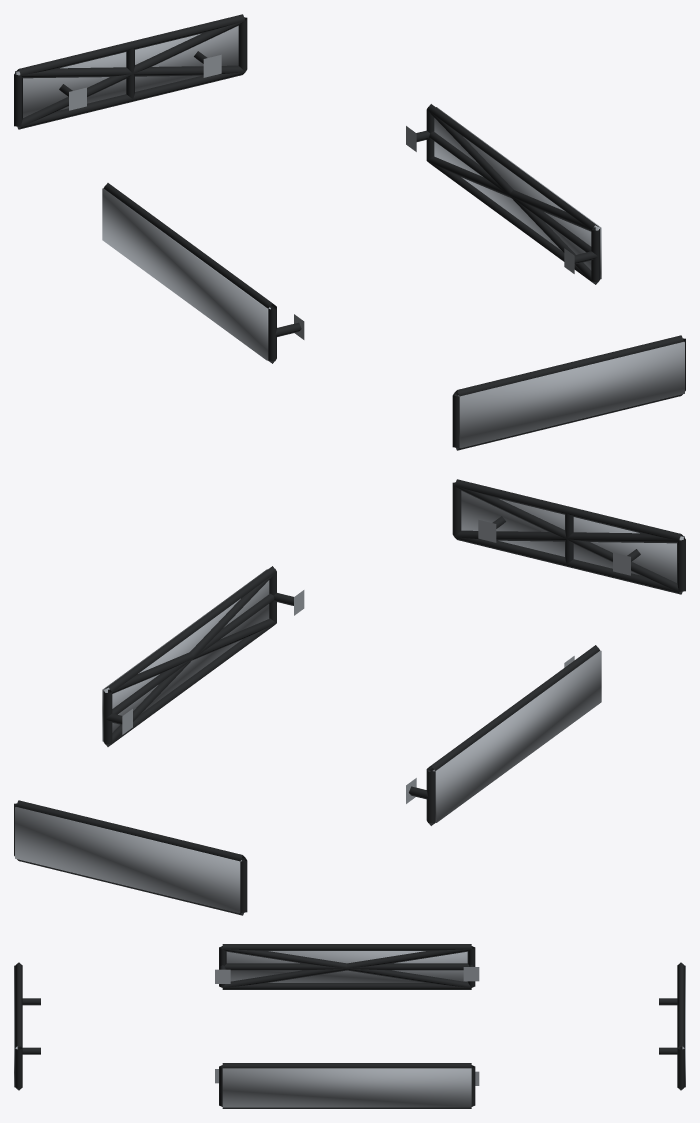
File: bancroft_oficina_protecao.glb
3 views of the same model, one above another, from view 1: azimuth 30°, elevation 25°; view 2: azimuth 150°, elevation 25°; view 3: azimuth 270°, elevation 25° (orthographic). The views are drawn at different scales.
Parts seen in each view (by area): view 1: Protection_front_Level3_Details, Protection_left_Level3_Details, Protection_rear_Level1_Details, Protection_rear_Level3_Details, Protection_right_Level1_Details, Protection_right_Level2_Details, Protection_rear_Level2_Details, Protection_right_Level3_Details, Protection_front_Level1_Details, Protection_left_Level1_Details; view 2: Protection_rear_Level3_Details, Protection_left_Level3_Details, Protection_front_Level1_Details, Protection_front_Level3_Details, Protection_right_Level1_Details, Protection_right_Level2_Details, Protection_front_Level2_Details, Protection_right_Level3_Details, Protection_rear_Level1_Details, Protection_left_Level1_Details; view 3: Protection_right_Level3_Details, Protection_left_Level2_Details, Protection_left_Level1_Details, Protection_left_Level3_Details, Protection_right_Level1_Details, Protection_rear_Level1_Details, Protection_front_Level1_Details.
Part boxes in pixels (x1,y1,x2,y2): Protection_front_Level3_Details: (458, 342, 684, 448); Protection_left_Level3_Details: (102, 188, 270, 360); Protection_rear_Level1_Details: (14, 14, 247, 129); Protection_rear_Level3_Details: (15, 26, 238, 117); Protection_right_Level1_Details: (406, 104, 600, 284); Protection_right_Level2_Details: (427, 110, 599, 284); Protection_rear_Level2_Details: (16, 21, 245, 128); Protection_right_Level3_Details: (434, 107, 601, 279); Protection_front_Level1_Details: (452, 335, 685, 450); Protection_left_Level1_Details: (103, 183, 304, 363); Protection_rear_Level3_Details: (15, 807, 241, 913); Protection_left_Level3_Details: (432, 650, 601, 822); Protection_front_Level1_Details: (452, 479, 685, 594); Protection_front_Level3_Details: (461, 491, 684, 582); Protection_right_Level1_Details: (103, 566, 304, 746); Protection_right_Level2_Details: (104, 572, 276, 746); Protection_front_Level2_Details: (454, 486, 683, 593); Protection_right_Level3_Details: (102, 569, 269, 741); Protection_rear_Level1_Details: (14, 800, 247, 915); Protection_left_Level1_Details: (406, 645, 599, 825); Protection_right_Level3_Details: (222, 1068, 471, 1107); Protection_left_Level2_Details: (222, 948, 471, 987); Protection_left_Level1_Details: (215, 944, 479, 989); Protection_left_Level3_Details: (226, 951, 467, 982); Protection_right_Level1_Details: (215, 1063, 479, 1108); Protection_rear_Level1_Details: (659, 962, 684, 1090); Protection_front_Level1_Details: (15, 962, 40, 1090).
Size of the model in its own units: 2.04 by 0.354 by 4.7.
Materials: 1 (1 with a texture image).
